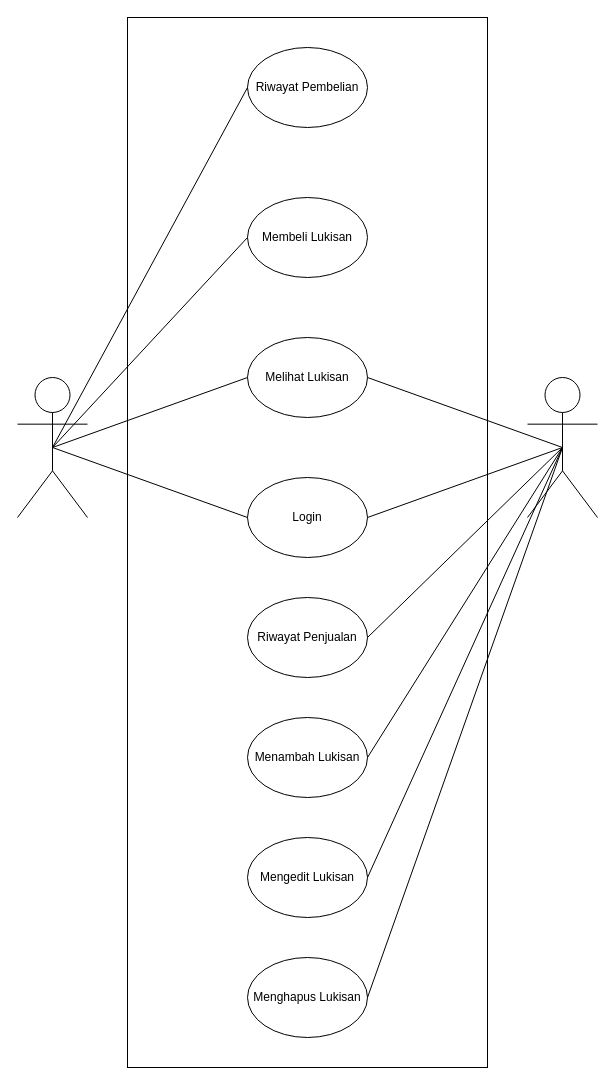
The diagram is 615 pixels wide and 1085 high, and some of its shapes have lost their labels. Here are the shapes that lost their labels. From the top down, the box of each, then its label:
(16, 376, 88, 518): PEMBELI
(526, 376, 598, 518): PENJUAL
